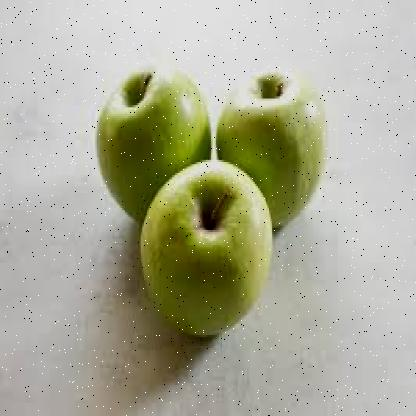apple: (138, 156, 284, 342), (92, 63, 218, 226), (222, 65, 328, 226)
